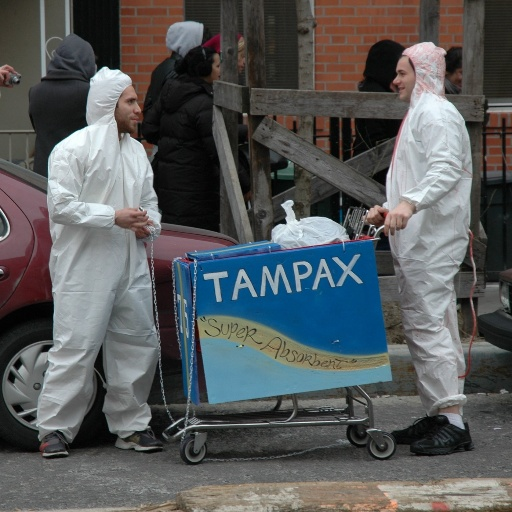hand: (39, 141, 149, 232), (381, 201, 417, 238), (359, 204, 392, 227), (0, 59, 18, 89), (130, 221, 150, 239)
